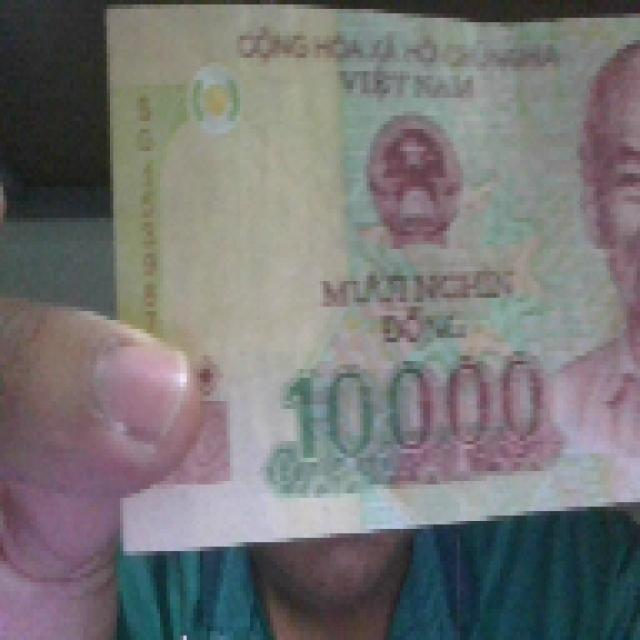10 000 VND: (100, 0, 637, 556)
